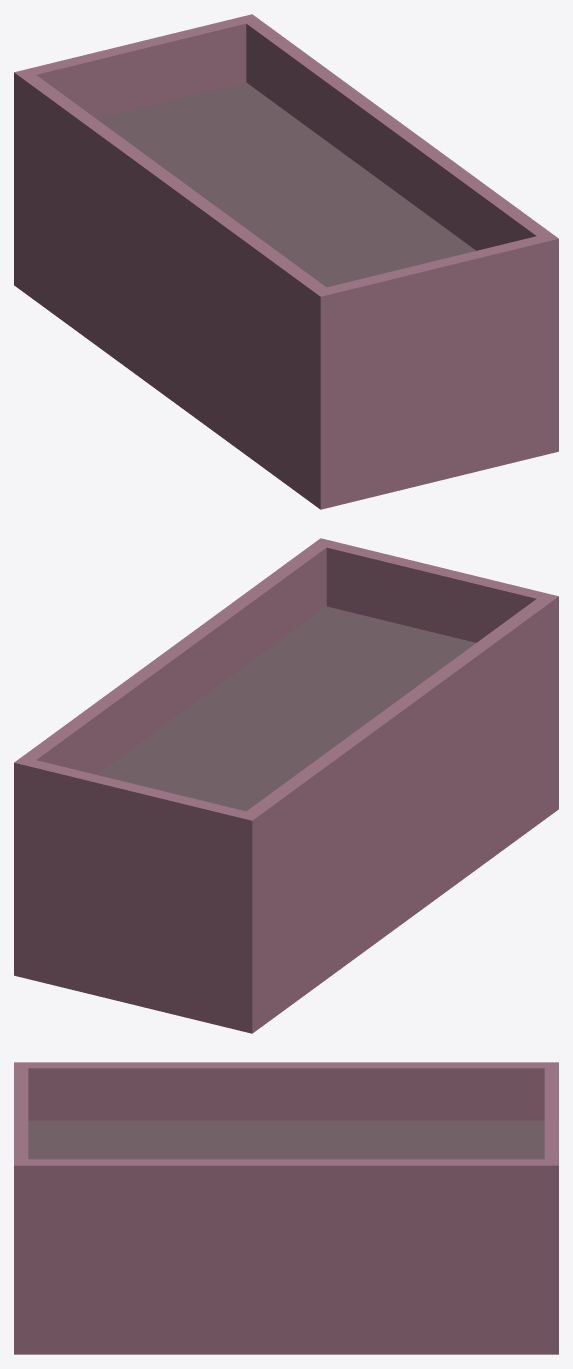
The model's file is FlowerBox.fbx.
The picture shows the model from 3 angles, top to bottom: view 1: azimuth 30°, elevation 25°; view 2: azimuth 150°, elevation 25°; view 3: azimuth 270°, elevation 25°; orthographic projection. The views are drawn at different scales.
Visible parts, largest first — view 1: FlowerBox; view 2: FlowerBox; view 3: FlowerBox.
Boxes of the visible parts, <box> form: FlowerBox: <box>14,14,558,509</box>; FlowerBox: <box>14,538,558,1033</box>; FlowerBox: <box>14,1062,558,1354</box>.
Size of the model in its own units: 0.7943 by 0.6783 by 1.77.
